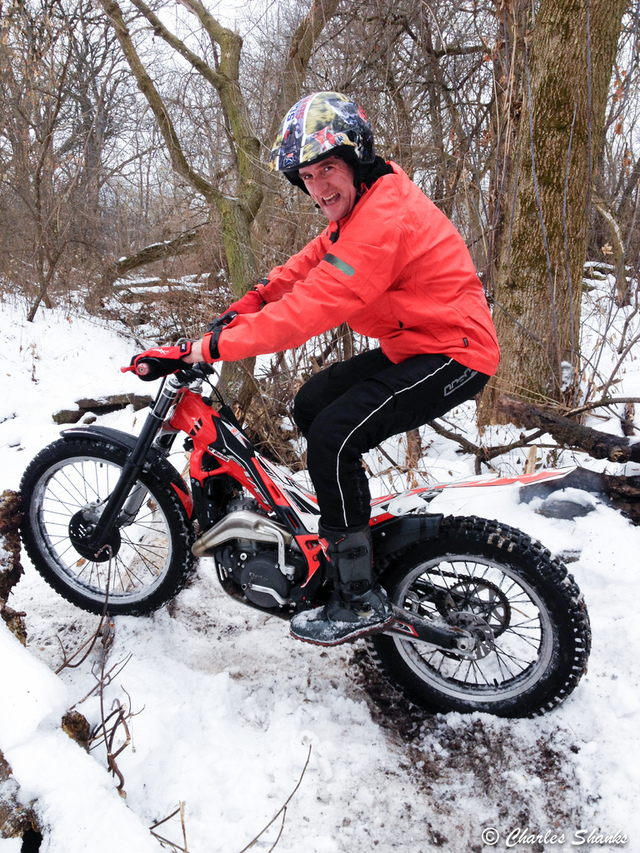helmet: (268, 98, 378, 174)
